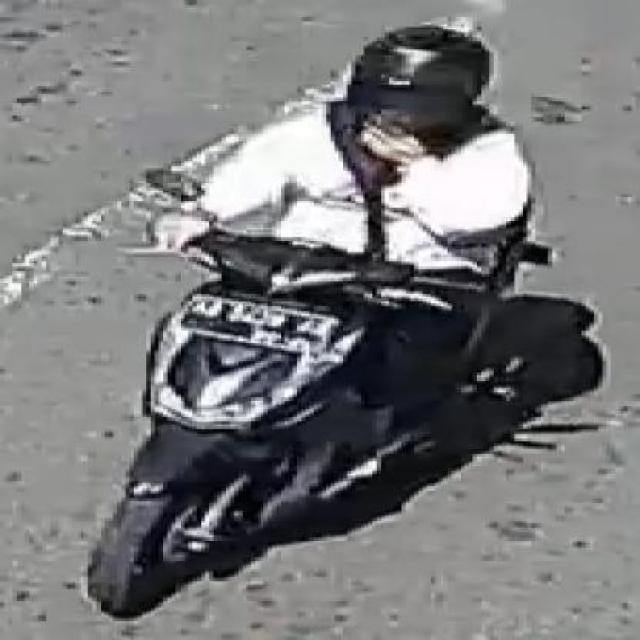helmet: (323, 5, 494, 188)
motorcycle: (77, 17, 640, 640)
